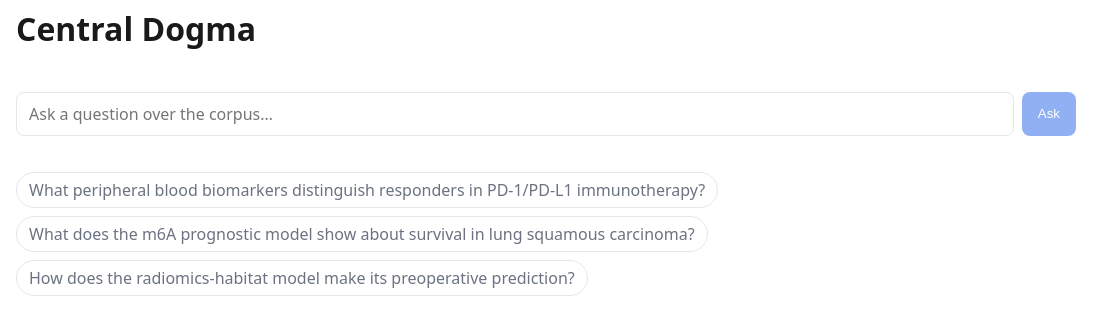
Test case: Page › shows the refusal banner when refused
This screenshot has width=1093, height=313.
Step 1. Type "what is the airspeed of a swallow" into the field labelled "question" → x=515, y=114, box [16, 92, 1014, 136]
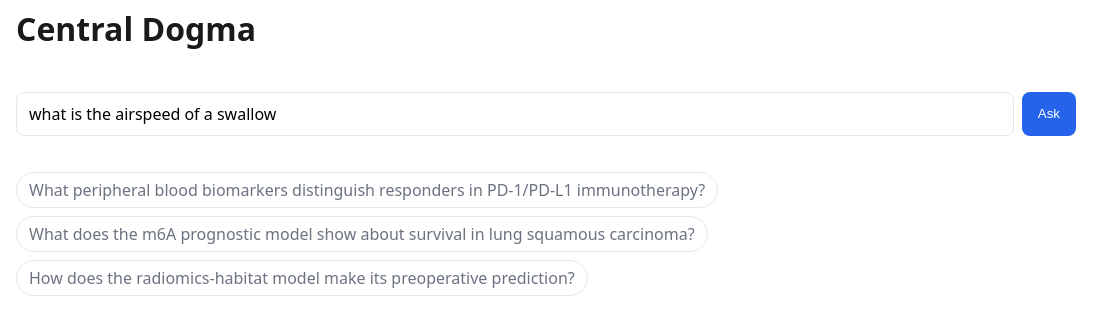
Step 2. Click the button "Ask" → x=1049, y=114, box [1022, 92, 1076, 136]
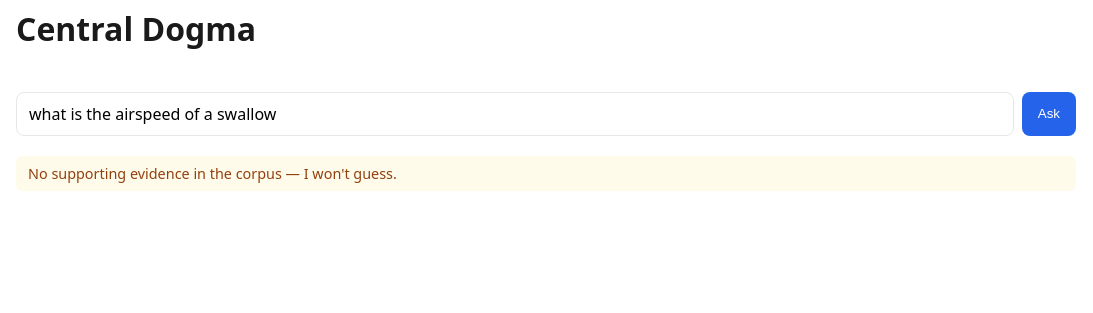
Now the message shows "won't guess", box [28, 164, 397, 183]
